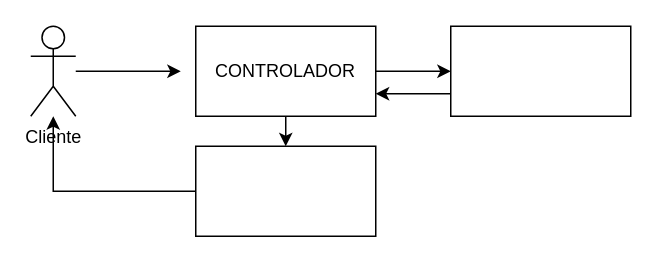
This 657x263 diagram has some shape labels left out. Here are the shapes that lost their labels. From the top down, the box of each, then its label:
(449, 25, 631, 116): MODELO
(194, 145, 376, 236): VISTA
